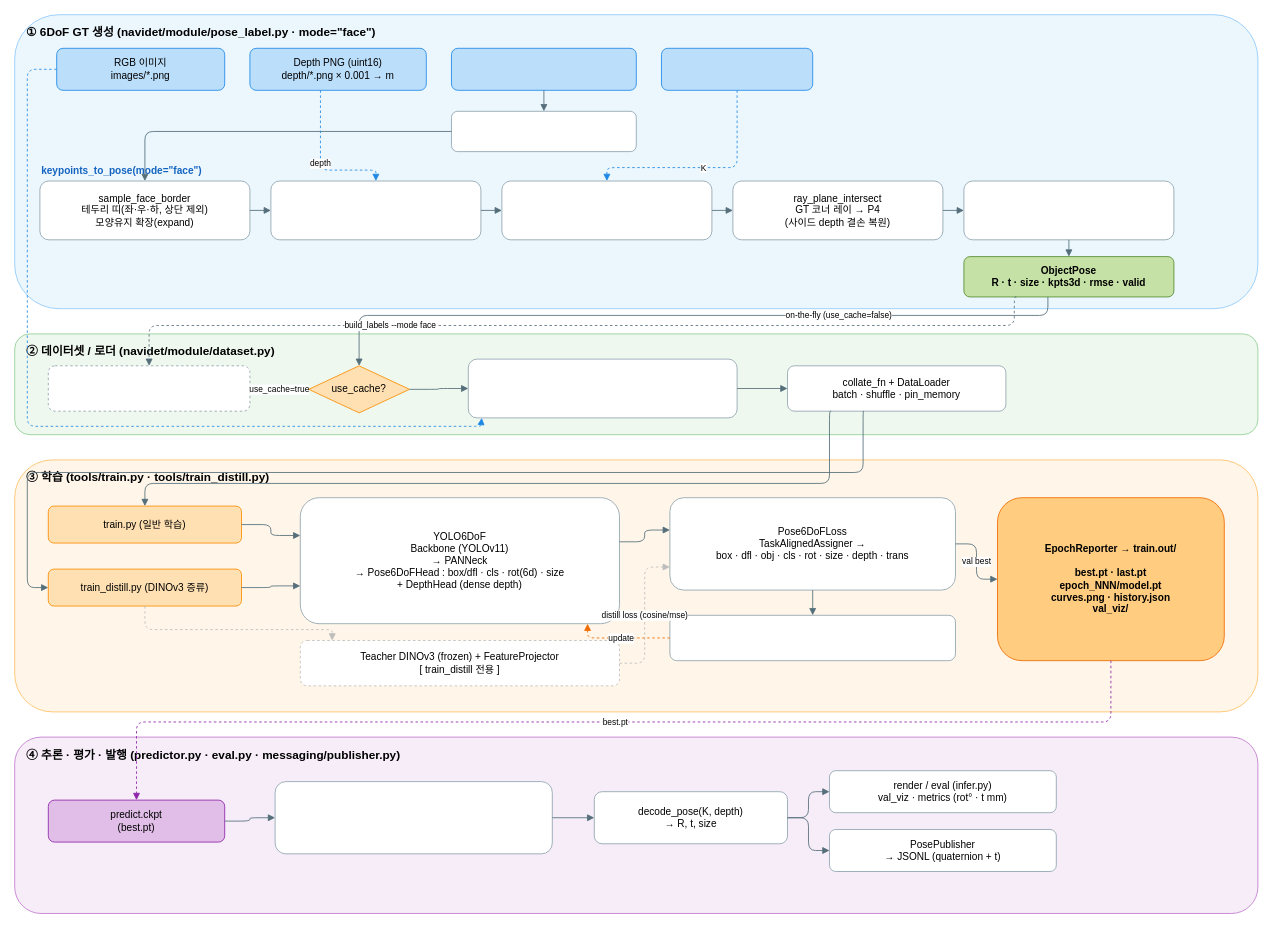
This 1273x928 diagram has some shape labels left out. Here are the shapes that lost their labels. From the top down, the centre of each, then its label:
[543,68]: YOLO kpt 라벨 cls cx cy w h + 4 keypoints
[737,68]: Camera .ini intrinsics K
[543,131]: parse_yolo_kpt_label → cls, bbox, kpts (TR,BR,BL,TL)
[375,210]: rgbd_unproject 픽셀 + depth → 3D 점군 (0.1 < d < max 유효점)
[606,210]: ransac_plane_full 3D RANSAC 평면 (c, n) 인라이어 / RMSE
[1068,210]: R_from_plane_corners 평면 법선 + 코너 → R, t, size, kpts3d
[148,388]: pose_labels/*.npz (캐시) build_labels.py --mode face
[602,388]: PoseDataset letterbox(img + depth) GT R/t/size · rmse_thresh 필터
[812,637]: AdamW + cosine LR (+warmup) AMP · clip_grad_norm
[413,817]: YOLO6DoFPredictor _preprocess → forward → _postprocess top-k 프리필터 + NMS
